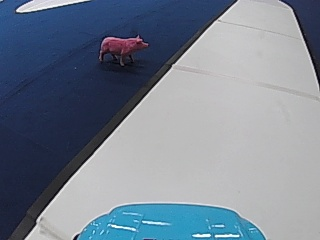pig: (97, 31, 149, 65)
